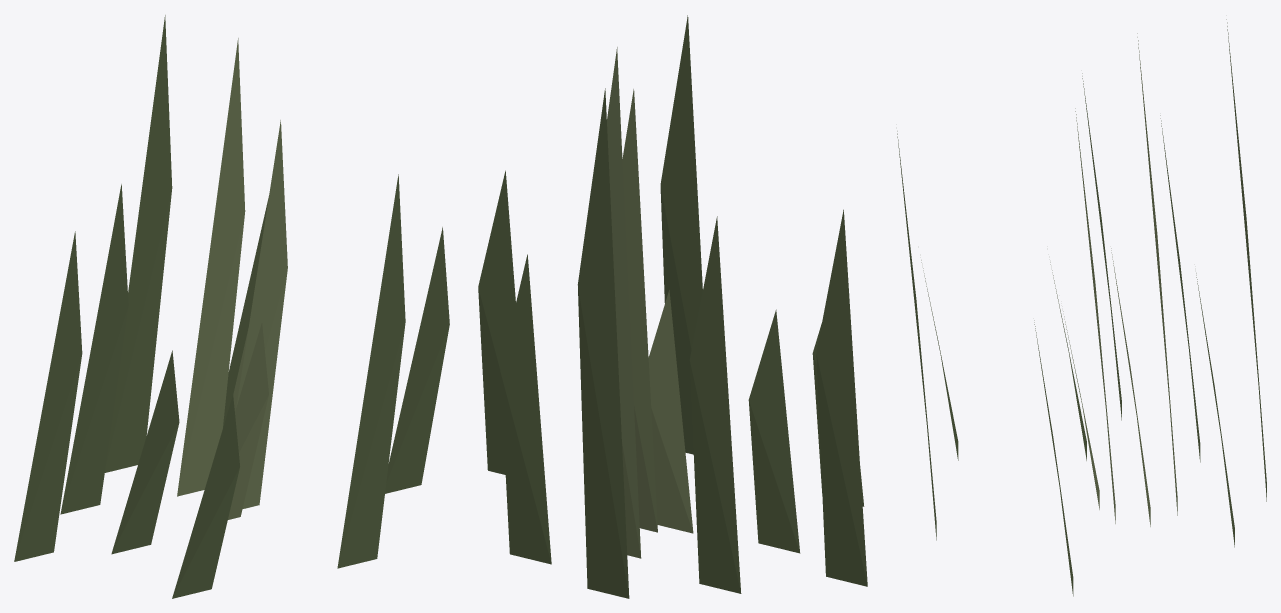
File: grassTufts.obj
3 renders of one model, left to right at view 1: azimuth 30°, elevation 25°; view 2: azimuth 150°, elevation 25°; view 3: azimuth 270°, elevation 25°, orthographic. The views are drawn at different scales.
Parts seen in each view (by area): view 1: grassTufts; view 2: grassTufts; view 3: grassTufts.
Boxes of the visible parts, x1,y1,x2,y2 form: grassTufts: (14, 15, 449, 598); grassTufts: (478, 15, 867, 598); grassTufts: (897, 19, 1266, 596).
Size of the model in its own units: 0.3646 by 0.4 by 0.2743.
Materials: 1 (1 with a texture image).
